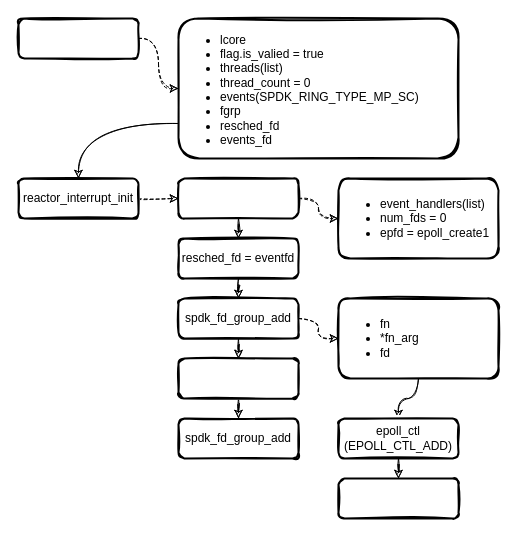
The diagram is 516 pixels wide and 536 high, and some of its shapes have lost their labels. Each missing label, with the centre of its shape:
"event_handlers (insert)" goes at [398,498].
"events_fd = eventfd" goes at [238,378].
"reactor_construct" goes at [78,38].
"spdk_fd_group_create" goes at [238,198].
